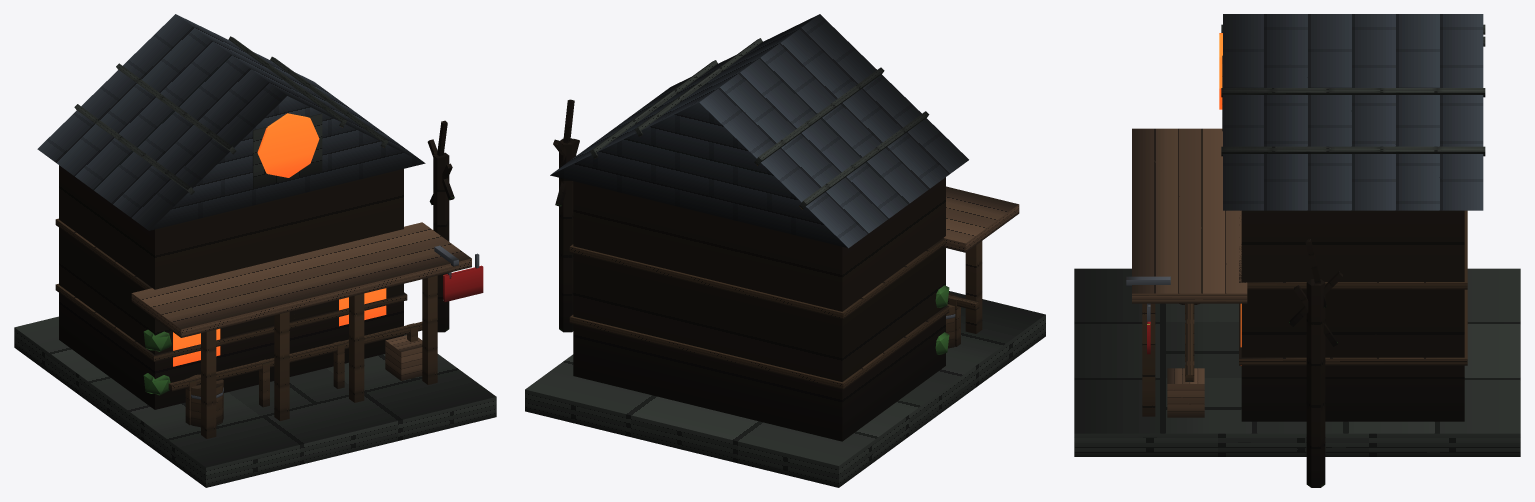
Rendered from shopfront.glb.
3 renders of one model, left to right at view 1: azimuth 30°, elevation 25°; view 2: azimuth 150°, elevation 25°; view 3: azimuth 270°, elevation 25°, orthographic. The views are drawn at different scales.
Parts seen in each view (by area): view 1: shopfront; view 2: shopfront; view 3: shopfront.
Part boxes in pixels (box(x1,y1,x2,y2)): shopfront: box(14, 14, 496, 487); shopfront: box(525, 14, 1045, 487); shopfront: box(1074, 14, 1520, 487).
Bounding box in the file's own units: 2.49 × 2.14 × 2.4.
Materials: 1 (1 with a texture image).
